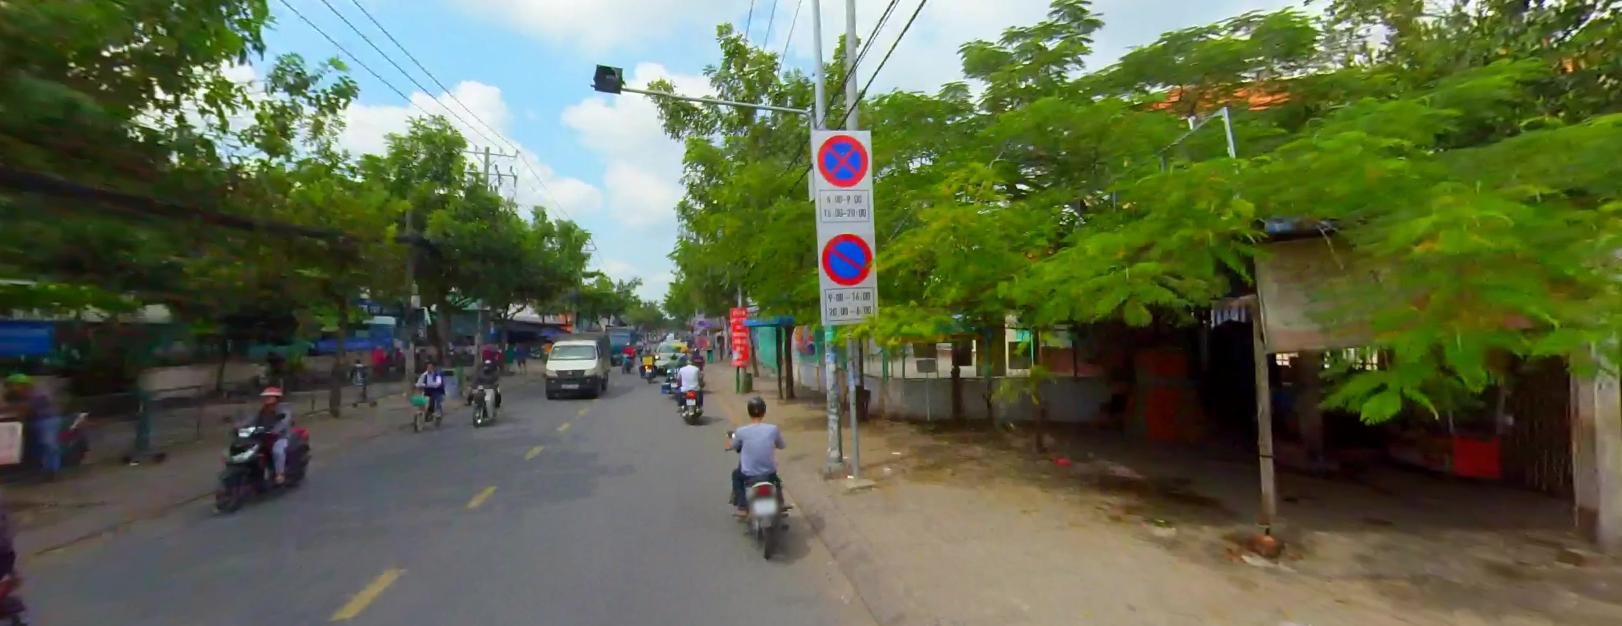Cam dung va do: (816, 130, 869, 188), (819, 230, 872, 280)
